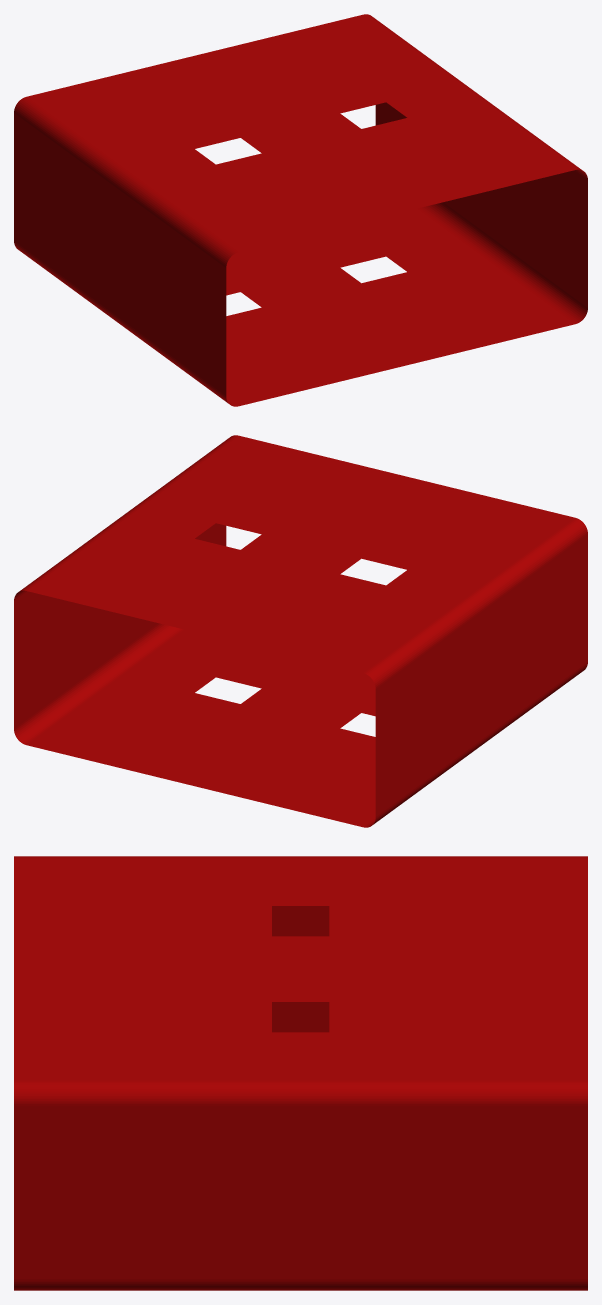
Rendered from original-10.obj.
3 views of the same model, one above another, from view 1: azimuth 30°, elevation 25°; view 2: azimuth 150°, elevation 25°; view 3: azimuth 270°, elevation 25° (orthographic). The views are drawn at different scales.
Visible parts, largest first — view 1: #ID59; view 2: #ID59; view 3: #ID59.
Boxes of the visible parts, x1,y1,x2,y2 form: #ID59: [14, 14, 587, 406]; #ID59: [14, 435, 587, 827]; #ID59: [14, 856, 587, 1290].
Bounding box in the file's own units: 0.3962 × 0.1614 × 0.4028.
